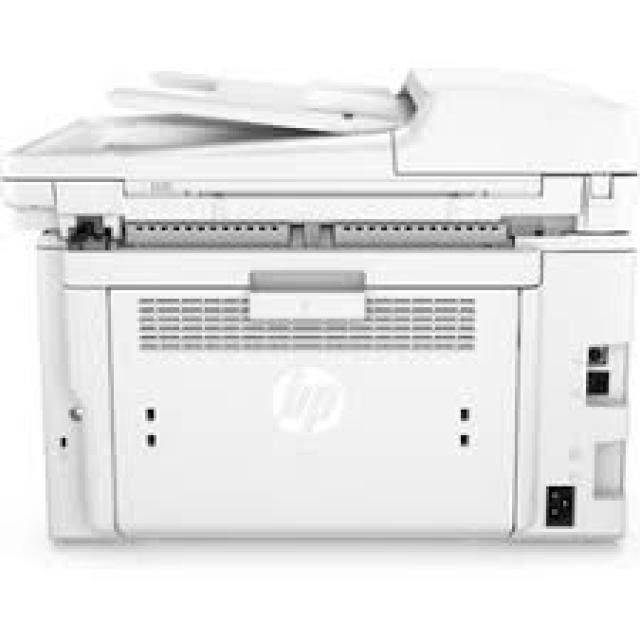printer: (0, 63, 637, 546)
